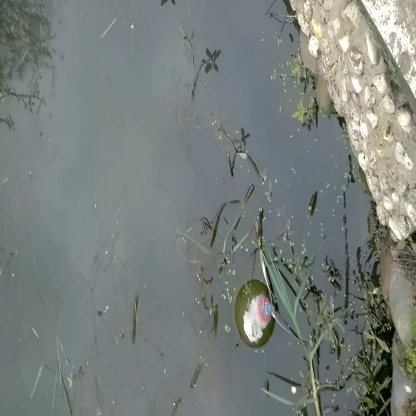plastic-bag: (232, 282, 286, 357)
